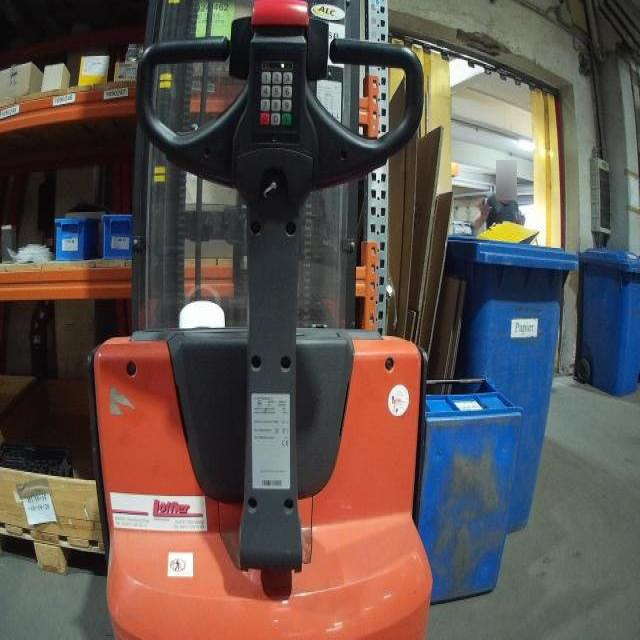pallet: (2, 517, 110, 584)
pallet_truck: (89, 0, 437, 640)
small_load_carrier: (52, 212, 97, 259), (98, 207, 133, 260)
